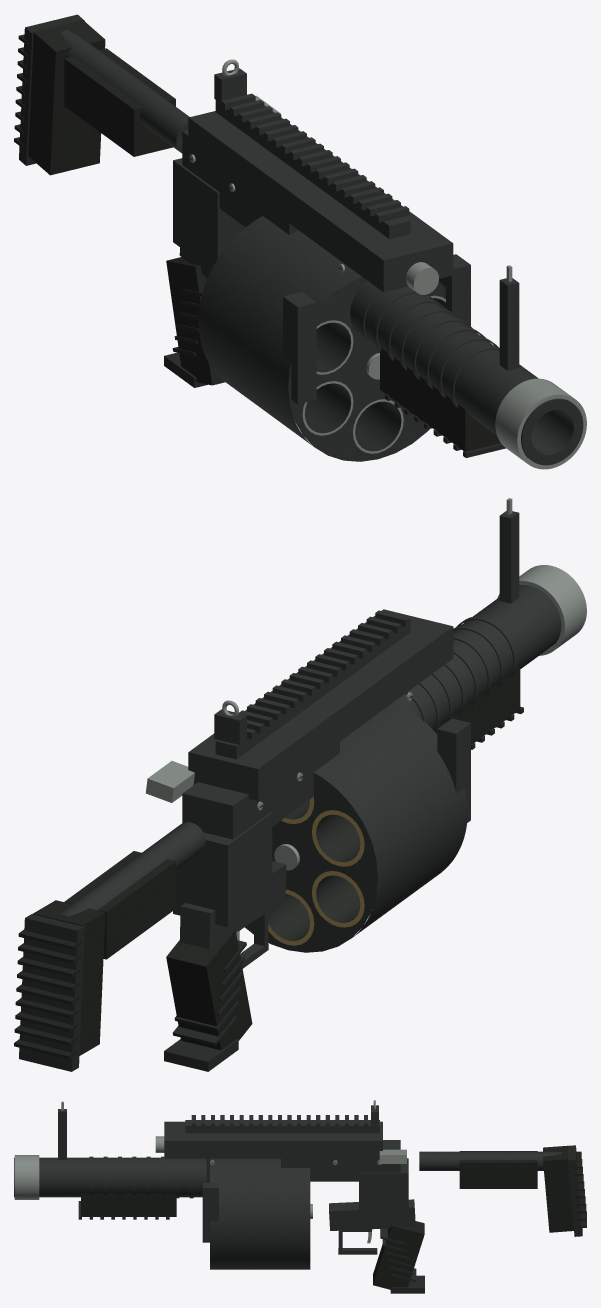
3 renders of one model, top to bottom at view 1: azimuth 30°, elevation 25°; view 2: azimuth 150°, elevation 25°; view 3: azimuth 270°, elevation 25°, orthographic. The views are drawn at different scales.
Visible parts, largest first — view 1: body_metal, drum_metal, body_polymer, drum_dark, body_steel, body_dark, drum_steel; view 2: body_metal, drum_metal, body_polymer, body_dark, drum_dark, body_steel, drum_brass; view 3: body_metal, drum_metal, body_polymer, body_dark, body_steel.
Part boxes in pixels (bbox=[...]): body_metal: bbox=[60, 30, 583, 465]; drum_metal: bbox=[198, 216, 445, 461]; body_polymer: bbox=[14, 20, 500, 451]; drum_dark: bbox=[289, 279, 444, 451]; body_steel: bbox=[189, 59, 586, 469]; body_dark: bbox=[19, 14, 505, 457]; drum_steel: bbox=[302, 295, 445, 453]; body_metal: bbox=[60, 511, 561, 968]; drum_metal: bbox=[245, 702, 467, 952]; body_polymer: bbox=[14, 667, 520, 1059]; body_dark: bbox=[19, 695, 523, 1071]; drum_dark: bbox=[268, 784, 377, 941]; body_steel: bbox=[145, 498, 586, 940]; drum_brass: bbox=[268, 795, 364, 945]; body_metal: bbox=[14, 1105, 561, 1254]; drum_metal: bbox=[210, 1158, 310, 1269]; body_polymer: bbox=[81, 1145, 586, 1289]; body_dark: bbox=[78, 1145, 582, 1293]; body_steel: bbox=[14, 1100, 406, 1243].
Size of the model in its own units: 0.17 by 0.303 by 0.8382.
5 materials, 2 textured.
